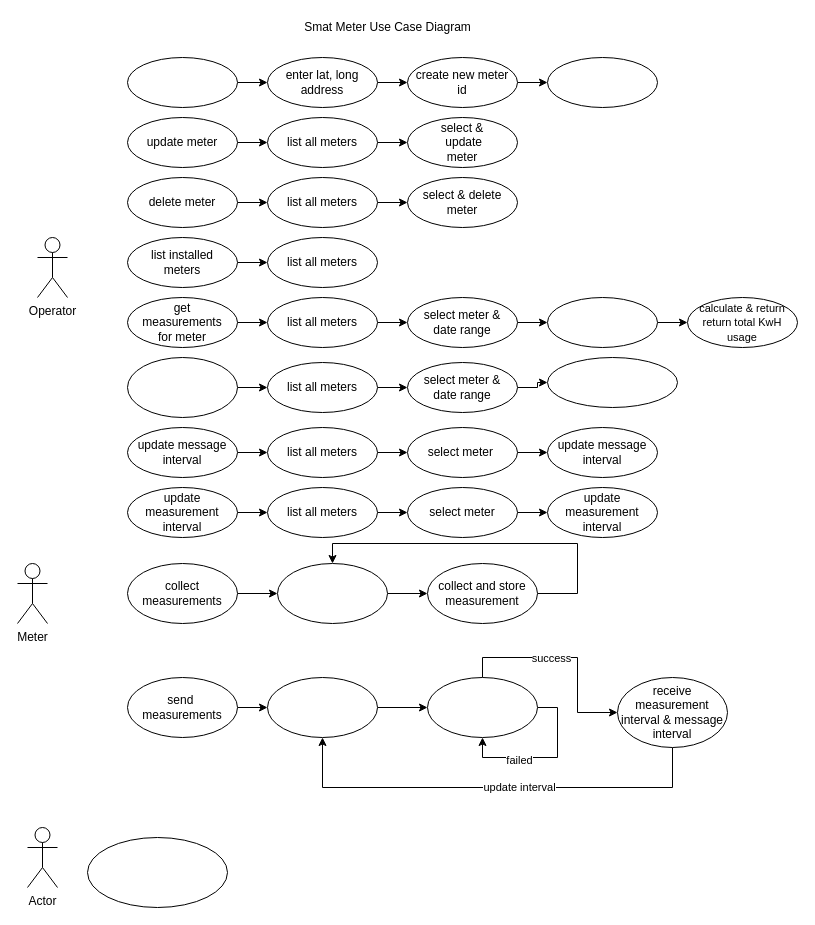
This 815x925 diagram has some shape labels left out. Each missing label, with the box of its shape:
add all measurements & divide by 1hr interval: (546, 356, 678, 408)
add meter to list: (546, 56, 658, 108)
create meter: (126, 56, 238, 108)
get total consumption for meter between dates: (126, 356, 238, 418)
return list of measurements: (546, 296, 658, 348)
send new measurements: (426, 676, 538, 738)
Use Case: (86, 836, 228, 908)
wait measurement interval: (276, 562, 388, 624)
wait message interval: (266, 676, 378, 738)
